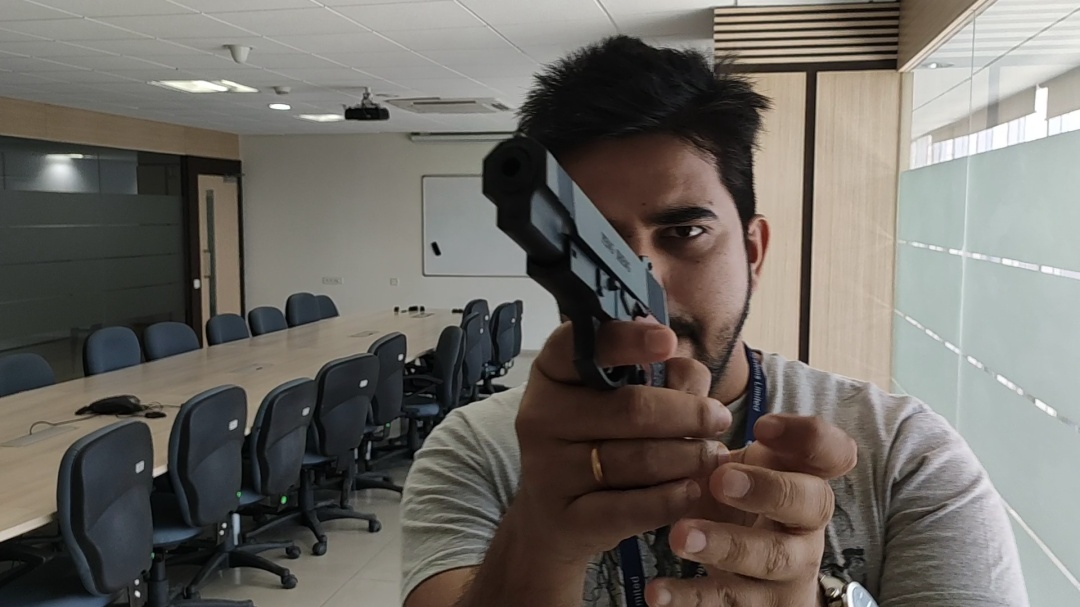gun: (192, 8, 956, 521)
